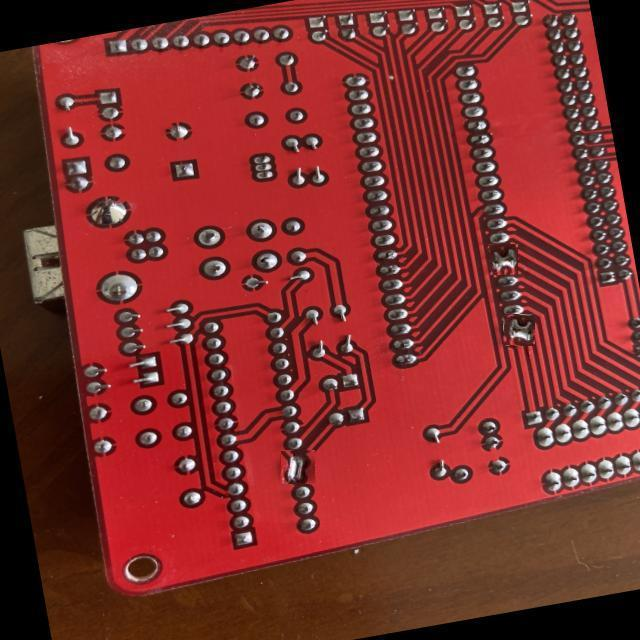damged: (280, 450, 315, 484), (488, 245, 519, 275), (504, 315, 534, 346)
